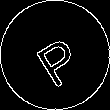P_NW: (26, 24, 84, 86)
